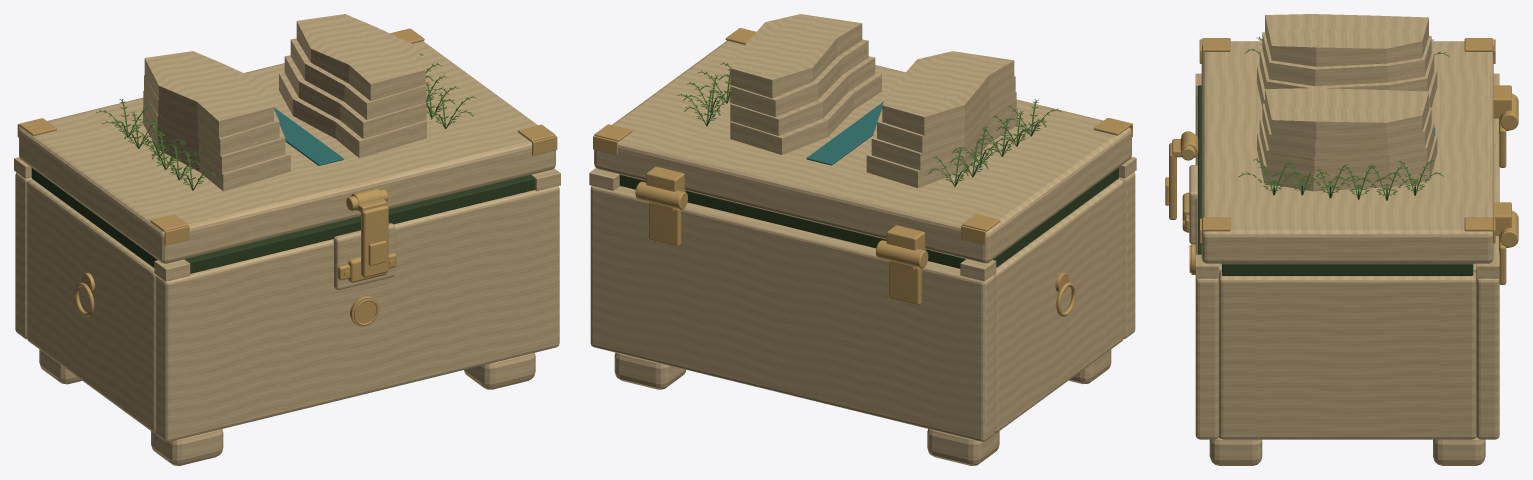
Rendered from luxembourg.glb.
3 views of the same model, side by side, from view 1: azimuth 30°, elevation 25°; view 2: azimuth 150°, elevation 25°; view 3: azimuth 270°, elevation 25° (orthographic).
Visible parts, largest first — view 1: Sandstone / front, Lid / polished slab, Sandstone / side, Outcrop / west 3, Outcrop / east 3, Mineral seam / long, Outcrop / east 0, Outcrop / east 1, Outcrop / east 2, Outcrop / west 1, Outcrop / west 0, Outcrop / west 2 (+10 smaller); view 2: Sandstone / rear, Lid / polished slab, Sandstone / side, Outcrop / west 3, Outcrop / east 3, Outcrop / east 0, Outcrop / east 1, Mineral seam / long.001, Outcrop / east 2, Outcrop / west 1, Outcrop / west 0, Outcrop / west 2 (+13 smaller); view 3: Sandstone / side.001, Lid / polished slab, Outcrop / east 3, Outcrop / west 3, Sandstone / rear, Sandstone / front, Outcrop / west 2, Mineral seam / side.001, Outcrop / east 1, Outcrop / east 2, Outcrop / east 0, Outcrop / west 1 (+18 smaller).
Part boxes in pixels (left/top/right/bottom): Sandstone / front: left=156, top=186, right=559, bottom=441; Lid / polished slab: left=19, top=41, right=555, bottom=263; Sandstone / side: left=27, top=179, right=156, bottom=433; Outcrop / west 3: left=144, top=51, right=273, bottom=139; Outcrop / east 3: left=296, top=14, right=425, bottom=100; Mineral seam / long: left=184, top=175, right=535, bottom=273; Outcrop / east 0: left=279, top=72, right=426, bottom=158; Outcrop / east 1: left=284, top=55, right=426, bottom=138; Outcrop / east 2: left=290, top=38, right=426, bottom=119; Outcrop / west 1: left=143, top=90, right=285, bottom=174; Outcrop / west 0: left=143, top=106, right=290, bottom=191; Outcrop / west 2: left=144, top=75, right=279, bottom=156; Sandstone / rear: left=590, top=186, right=994, bottom=441; Lid / polished slab: left=594, top=40, right=1131, bottom=263; Sandstone / side: left=994, top=178, right=1123, bottom=433; Outcrop / west 3: left=882, top=51, right=1014, bottom=136; Outcrop / east 3: left=730, top=14, right=862, bottom=98; Outcrop / east 0: left=730, top=73, right=881, bottom=154; Outcrop / east 1: left=730, top=56, right=875, bottom=135; Mineral seam / long.001: left=619, top=174, right=965, bottom=268; Outcrop / east 2: left=730, top=39, right=868, bottom=117; Outcrop / west 1: left=871, top=92, right=1016, bottom=171; Outcrop / west 0: left=866, top=107, right=1017, bottom=188; Outcrop / west 2: left=877, top=76, right=1015, bottom=153; Sandstone / side.001: left=1219, top=271, right=1476, bottom=439; Lid / polished slab: left=1201, top=41, right=1493, bottom=263; Outcrop / east 3: left=1265, top=88, right=1428, bottom=141; Outcrop / west 3: left=1265, top=14, right=1428, bottom=66; Sandstone / rear: left=1476, top=118, right=1499, bottom=439; Sandstone / front: left=1195, top=97, right=1218, bottom=439; Outcrop / west 2: left=1262, top=32, right=1431, bottom=86; Mineral seam / side.001: left=1222, top=263, right=1473, bottom=275; Outcrop / east 1: left=1259, top=118, right=1434, bottom=175; Outcrop / east 2: left=1262, top=103, right=1431, bottom=158; Outcrop / east 0: left=1257, top=132, right=1437, bottom=191; Outcrop / west 1: left=1259, top=49, right=1434, bottom=91.
Bounding box in the file's own units: 3.79 × 2.82 × 2.88.
Materials: 5 (1 with a texture image).
